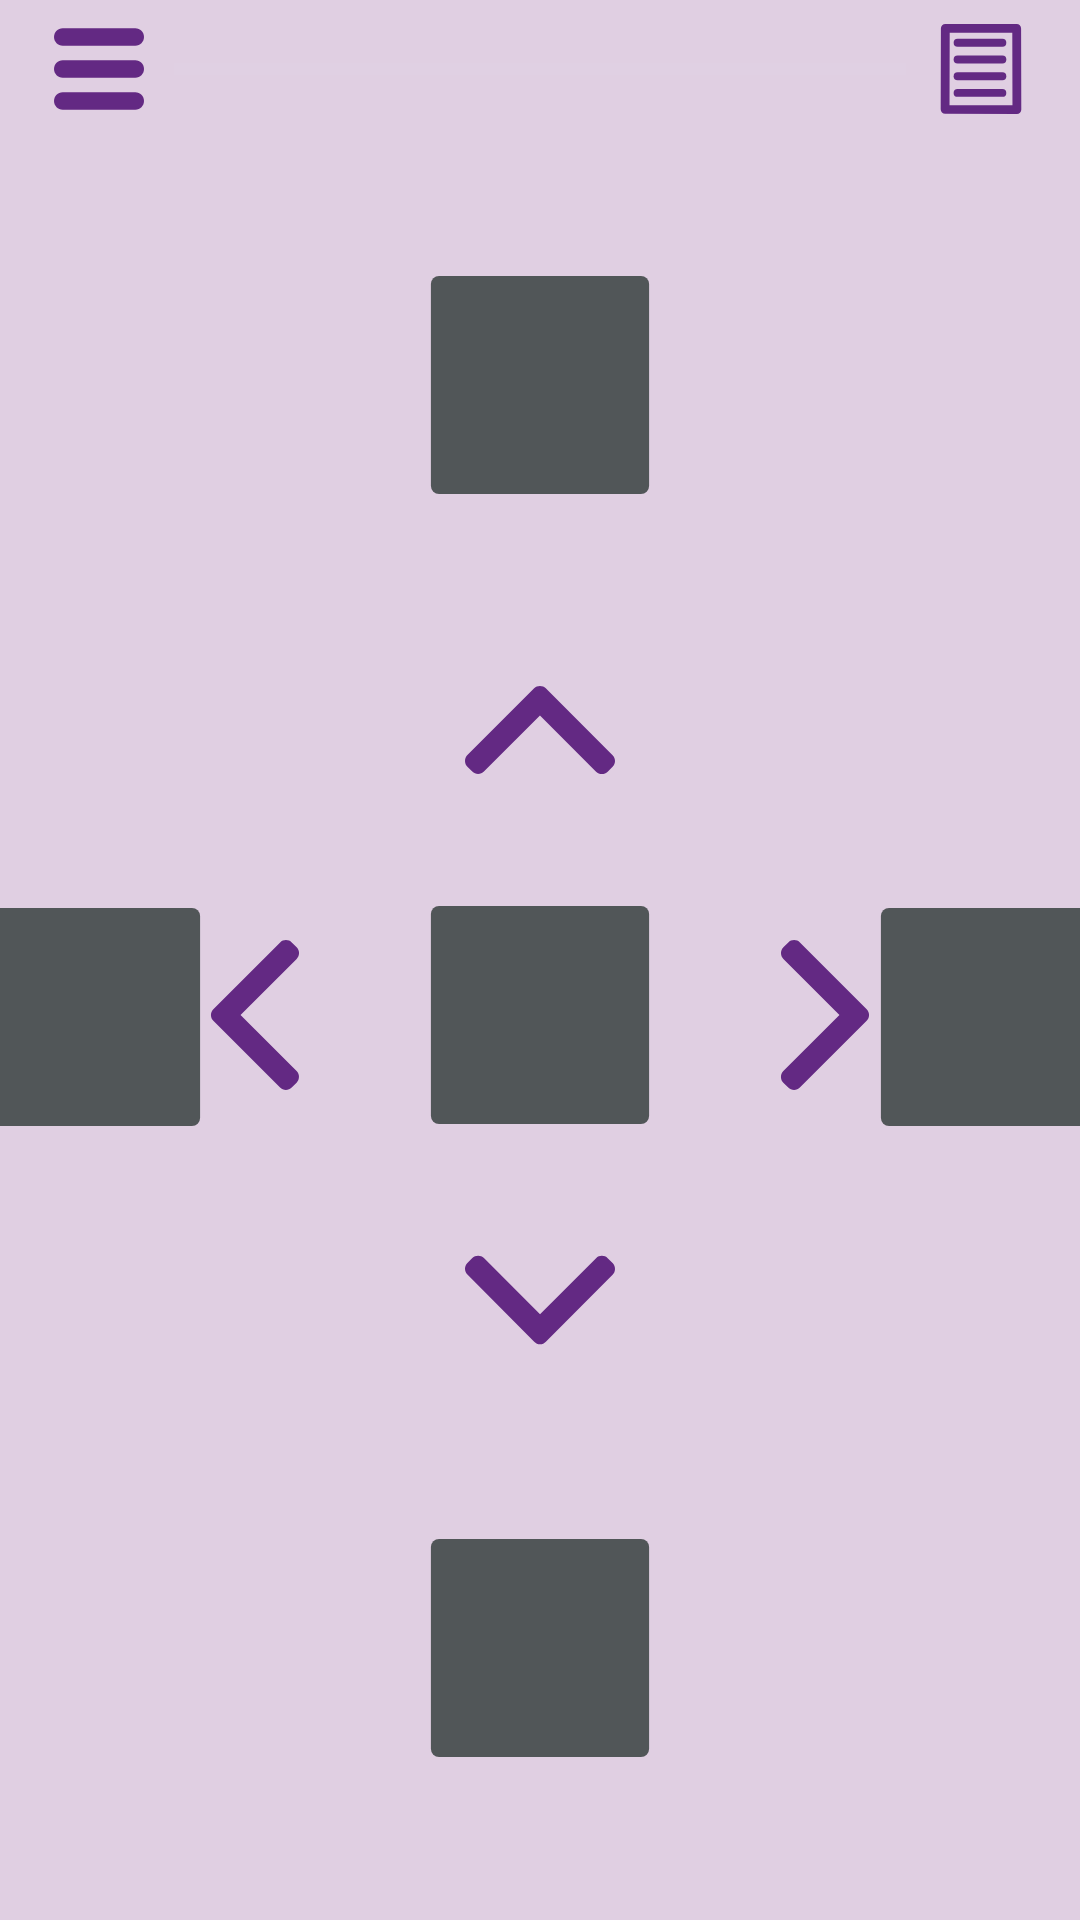

Screen size 1080×1920. Icon name, then its box in pixels as (x1, y1, x2, y2):
arrow down: (465, 1255, 615, 1345)
arrow left: (211, 940, 299, 1090)
arrow right: (781, 940, 869, 1090)
arrow up: (465, 686, 615, 774)
description: (940, 24, 1022, 114)
menu: (54, 28, 144, 110)
